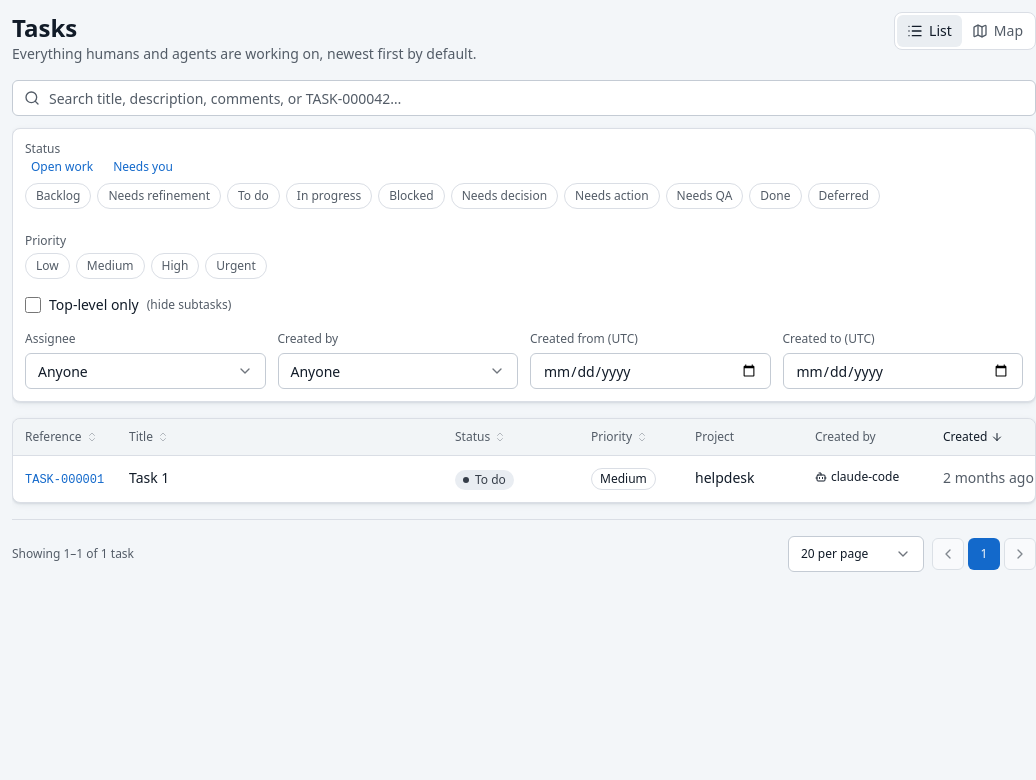
TasksListPage URL behaviour › does not rewrite the box when the user types a trailing space
Expected: the link "TASK-000001" is shown, [25, 473, 104, 487]
Type "foo " into the search field named "search tasks" at [524, 98], box [12, 80, 1035, 116]
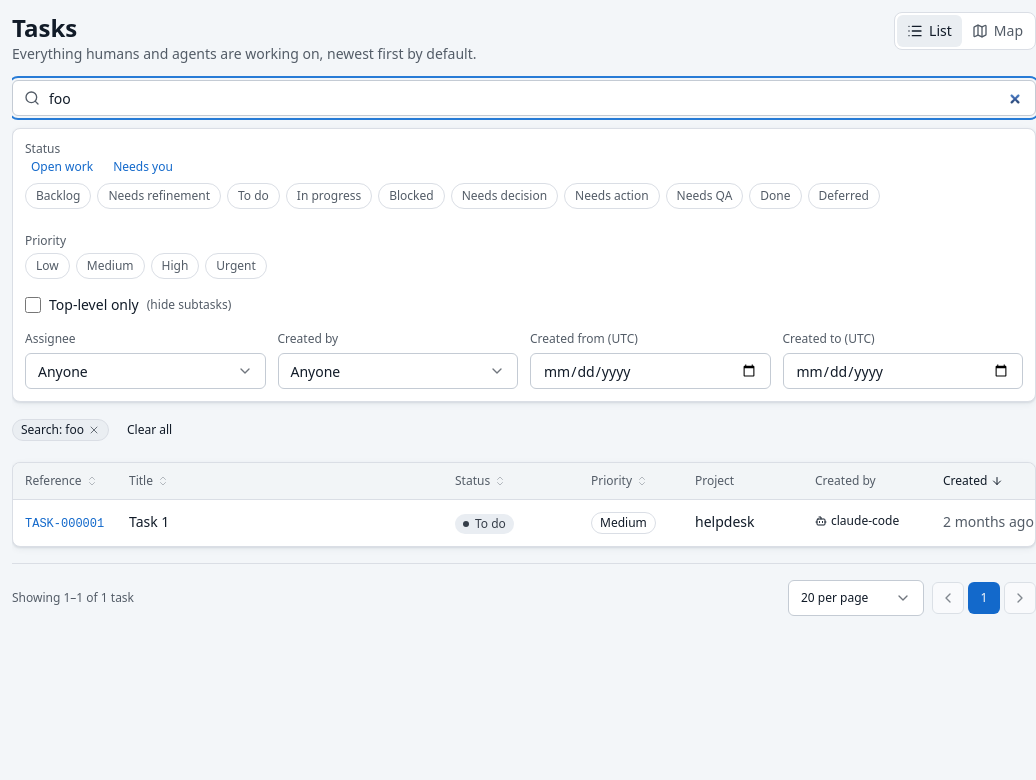
Type "bar" into the search field named "search tasks" at [524, 98], box [12, 80, 1035, 116]
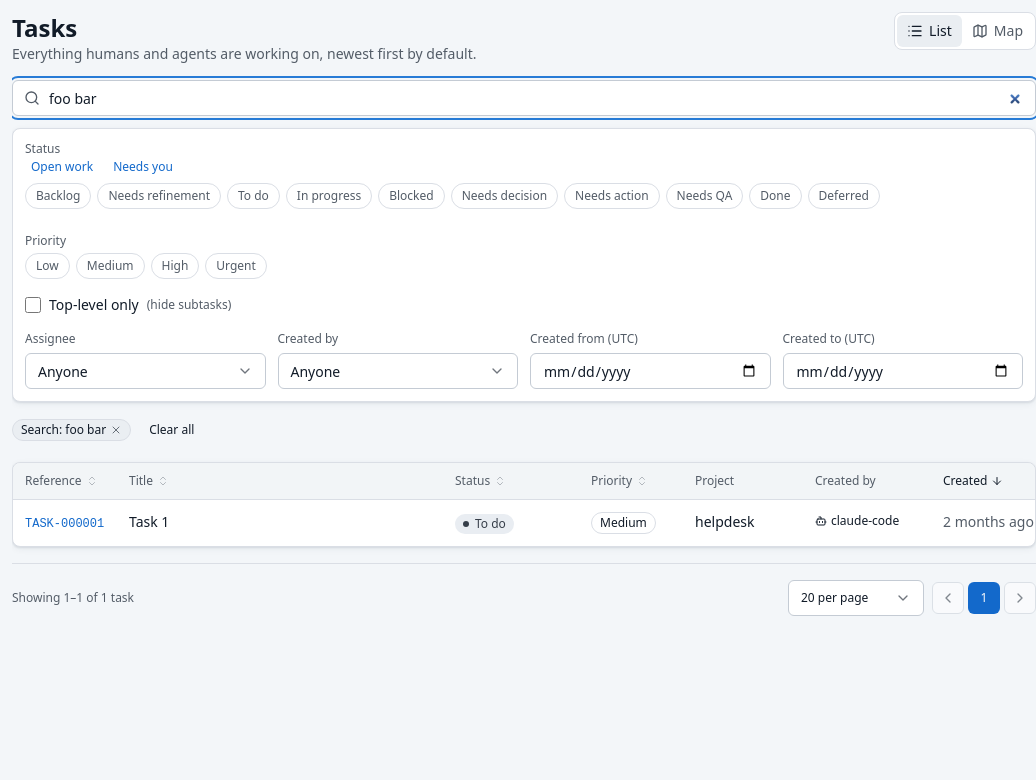
Now the search field named "search tasks" holds "foo bar", box [12, 80, 1035, 116]
